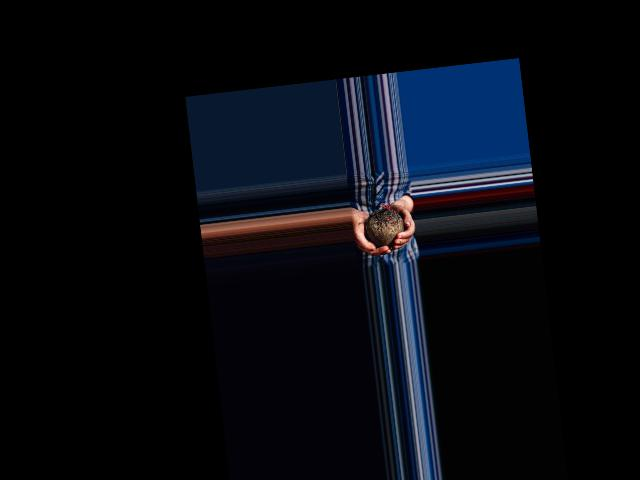beet: (362, 200, 405, 248)
